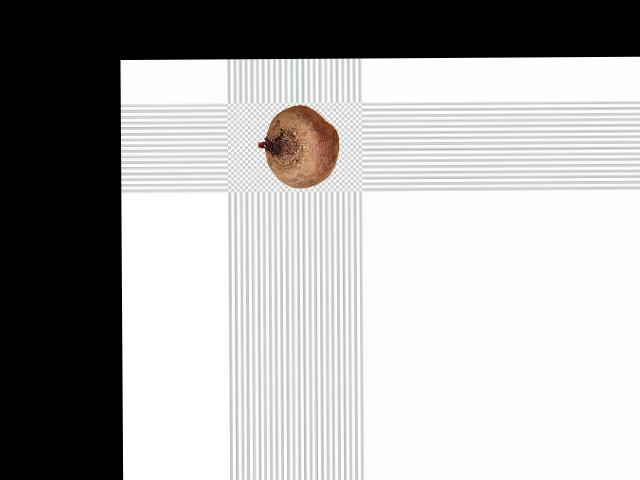beet: (257, 105, 338, 187)
